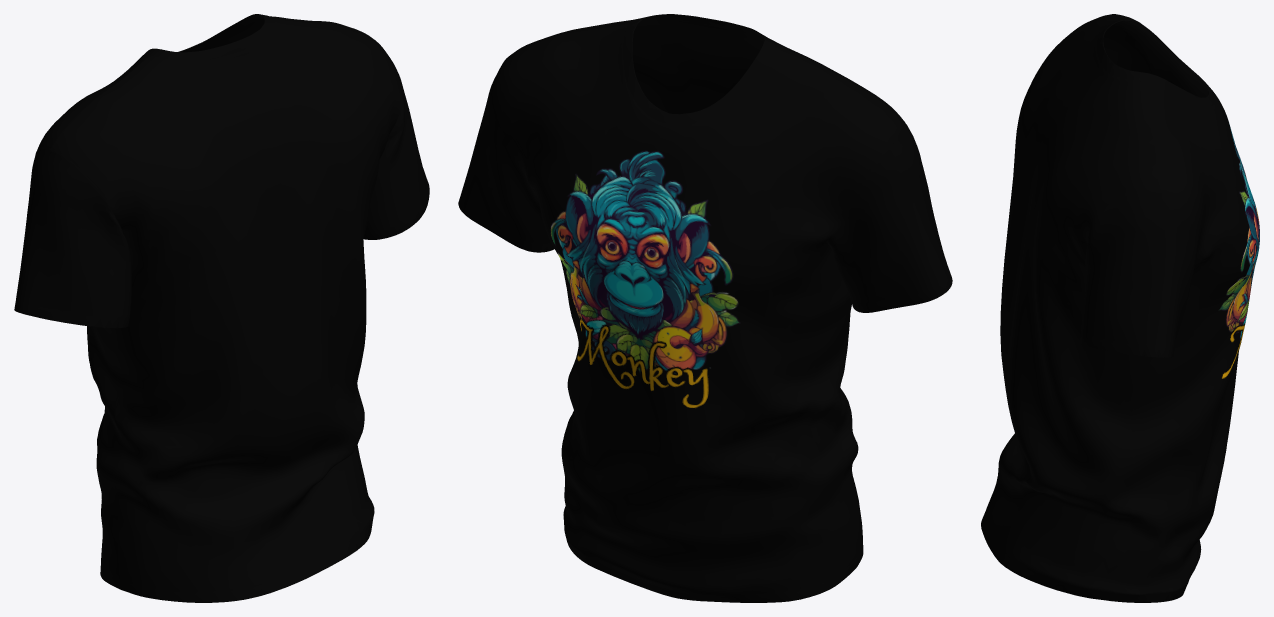
The model's file is DuPMkC7MR-1727457334403.glb.
3 renders of one model, left to right at view 1: azimuth 30°, elevation 25°; view 2: azimuth 150°, elevation 25°; view 3: azimuth 270°, elevation 25°, orthographic. The views are drawn at different scales.
Parts seen in each view (by area): view 1: tshirt; view 2: tshirt; view 3: tshirt.
Boxes of the visible parts, x1,y1,x2,y2 form: tshirt: [14, 14, 429, 602]; tshirt: [458, 14, 952, 602]; tshirt: [981, 14, 1259, 602].
Size of the model in its own units: 0.5458 by 0.6266 by 0.3059.
1 material, 1 textured.
